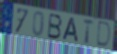0: (32, 11, 46, 39)
7: (15, 7, 29, 34)
A: (62, 17, 79, 44)
B: (46, 13, 63, 41)
D: (95, 20, 112, 49)
T: (82, 18, 95, 46)
